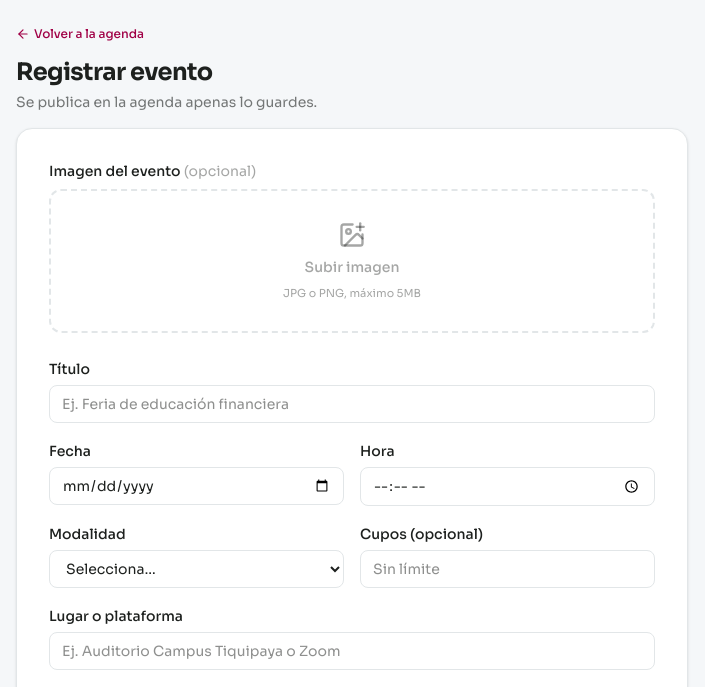
Scenario: EventoForm — registro › muestra el error que devuelve el backend
Type "Feria financiera" into the field labelled "Título" at (352, 404), box [49,385,655,423]
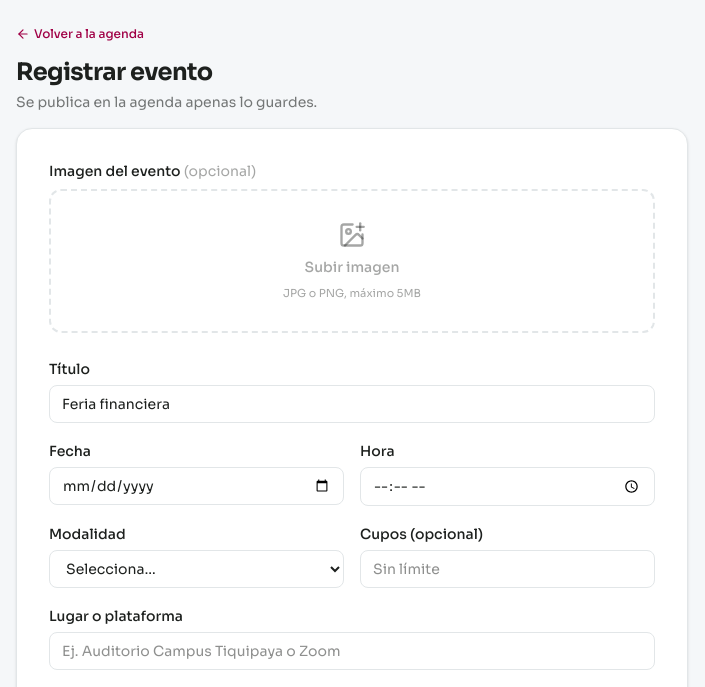
Type "2099-10-15" into the date field labelled "Fecha" at (196, 486), box [49,467,344,505]
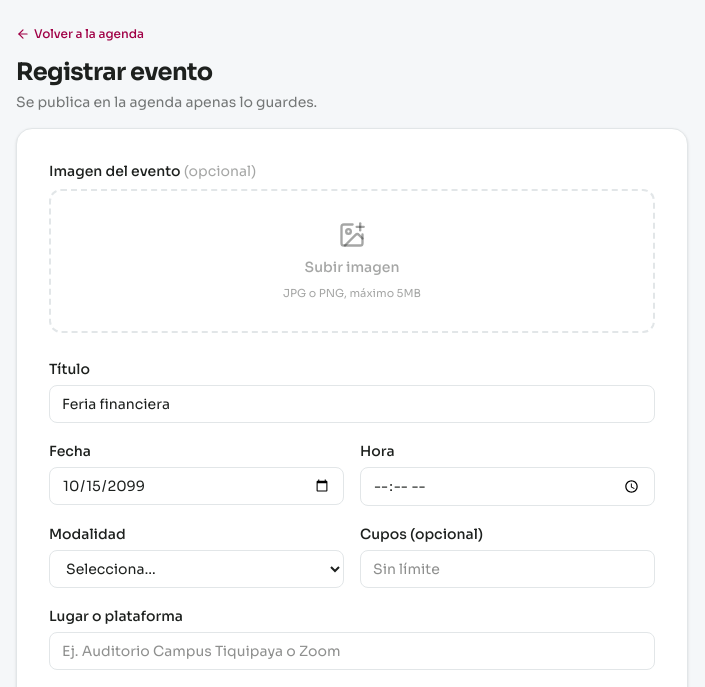
Type "10:00" into the time field labelled "Hora" at (508, 486), box [360,467,655,506]
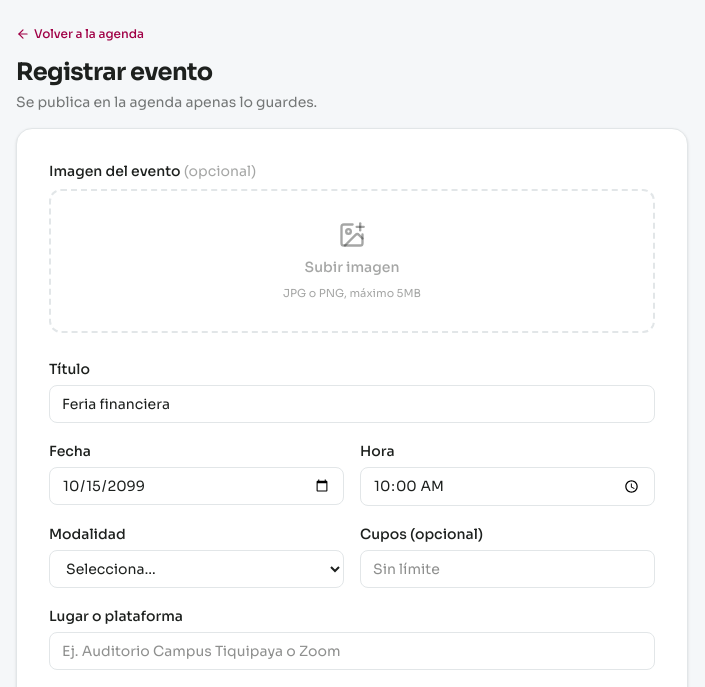
Select "Presencial" in the dropdown labelled "Modalidad" at (196, 569), box [49,550,344,588]
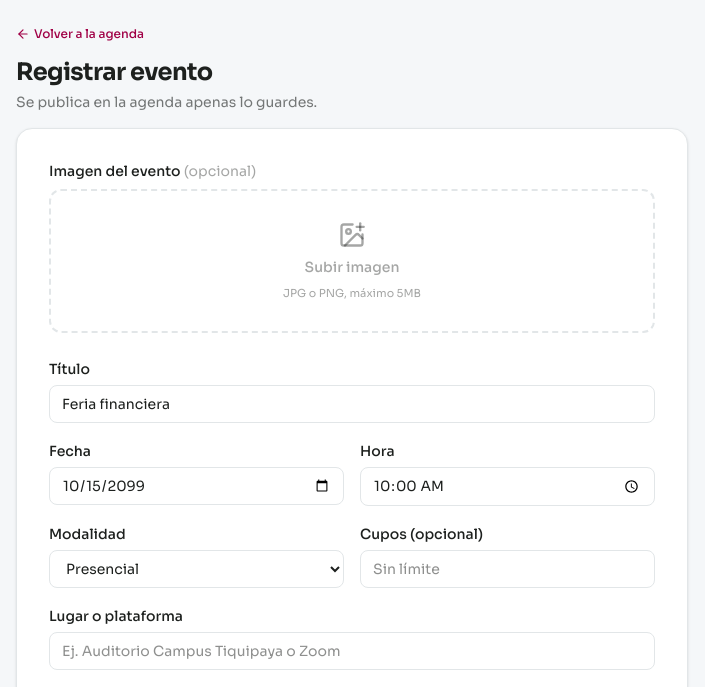
Type "Campus Tiquipaya" into the field labelled "Lugar o plataforma" at (352, 651), box [49,632,655,670]
(page scrolled)
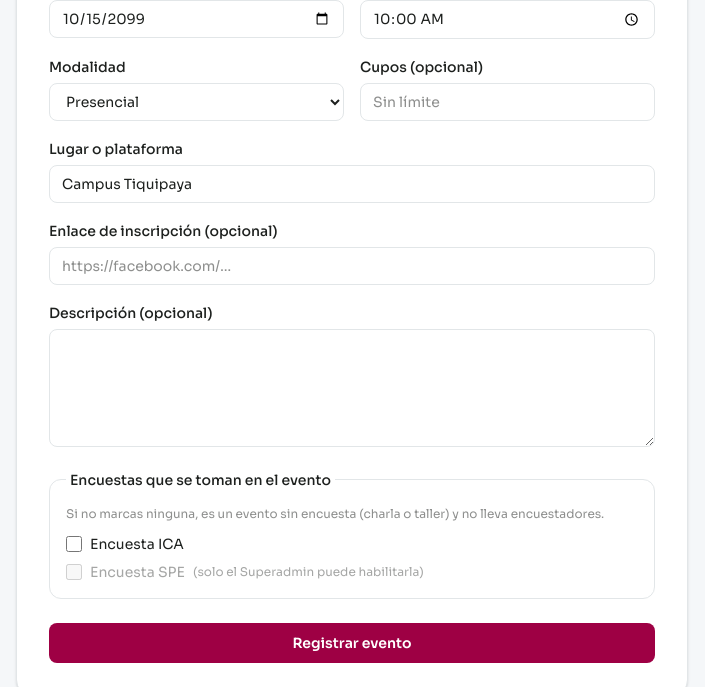
Click the button "Registrar evento" at (352, 643), box [49,623,655,663]
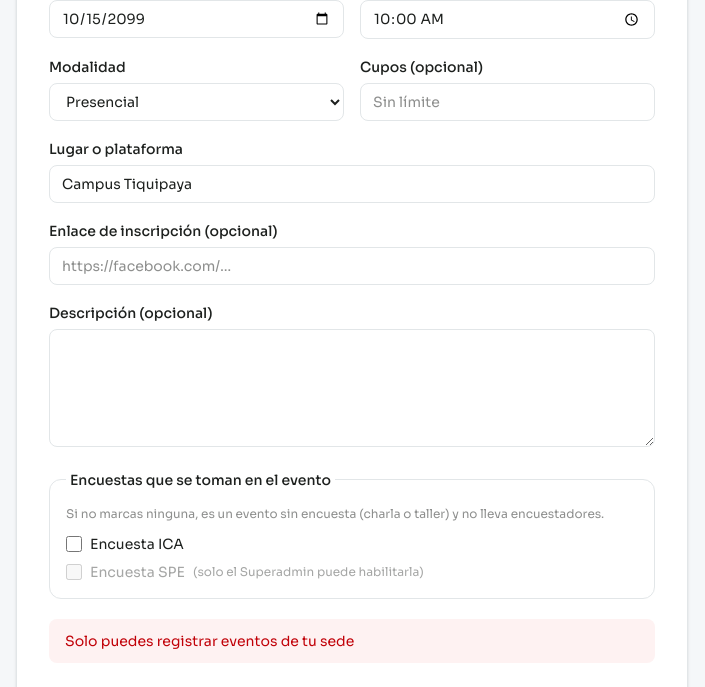
expect the message reads "Solo puedes registrar eventos de tu sede": met, box [65,632,354,650]
